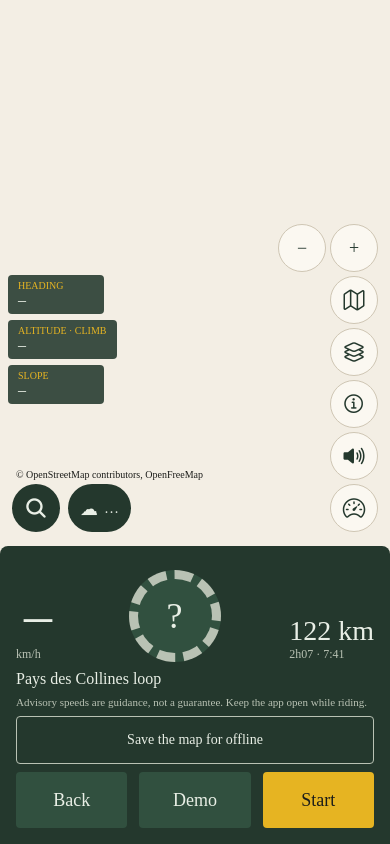
Test case: Find offers the kinds of place and Fuel, and says what it looks at
Click the button with test id "places-chip": (36, 508) [12,484,60,532]
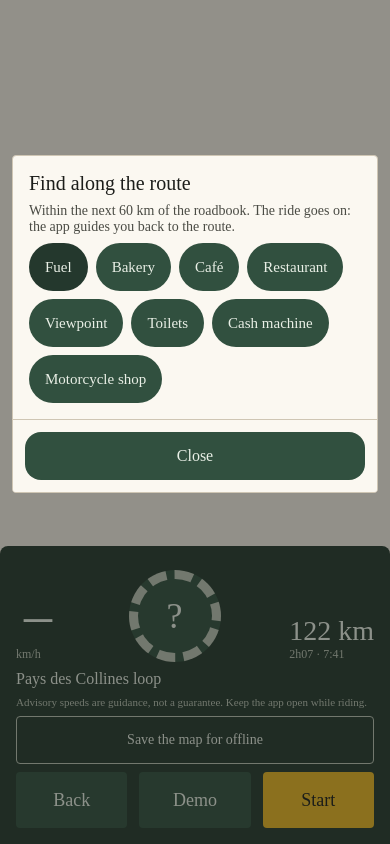
Expected: the button with aria-label "Look for: Fuel" is shown, [29,243,88,291]
Expected: the button with aria-label "Look for: Bakery" is shown, [96,243,171,291]
Expected: the button with aria-label "Look for: Café" is shown, [179,243,239,291]
Click the button labelled "Close": (195, 456) [25,432,365,480]
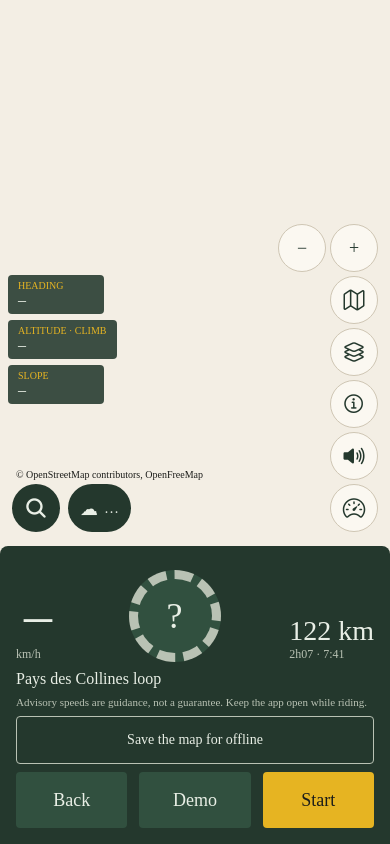
Expected: the element with test id "sheet" is gone
